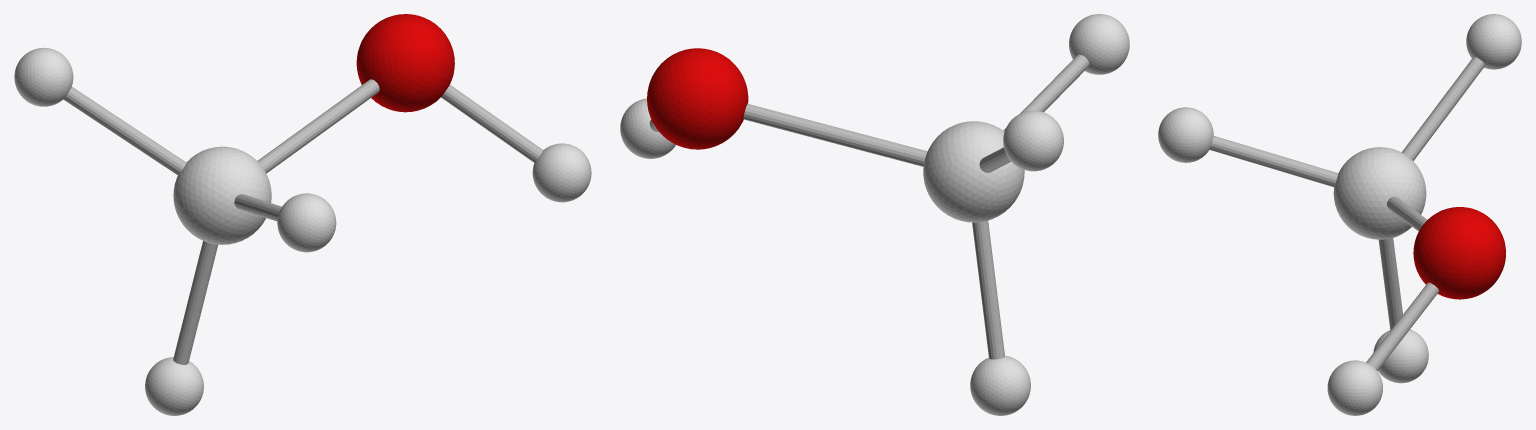
The picture shows the model from 3 angles, left to right: view 1: azimuth 30°, elevation 25°; view 2: azimuth 150°, elevation 25°; view 3: azimuth 270°, elevation 25°; orthographic projection. The views are drawn at different scales.
Visible parts, largest first — view 1: world; view 2: world; view 3: world.
Part boxes in pixels (box(x1,y1,x2,y2)): world: box(14, 14, 591, 415); world: box(620, 14, 1129, 415); world: box(1158, 14, 1521, 415).
Size of the model in its own units: 2.91 by 1.94 by 1.96.
